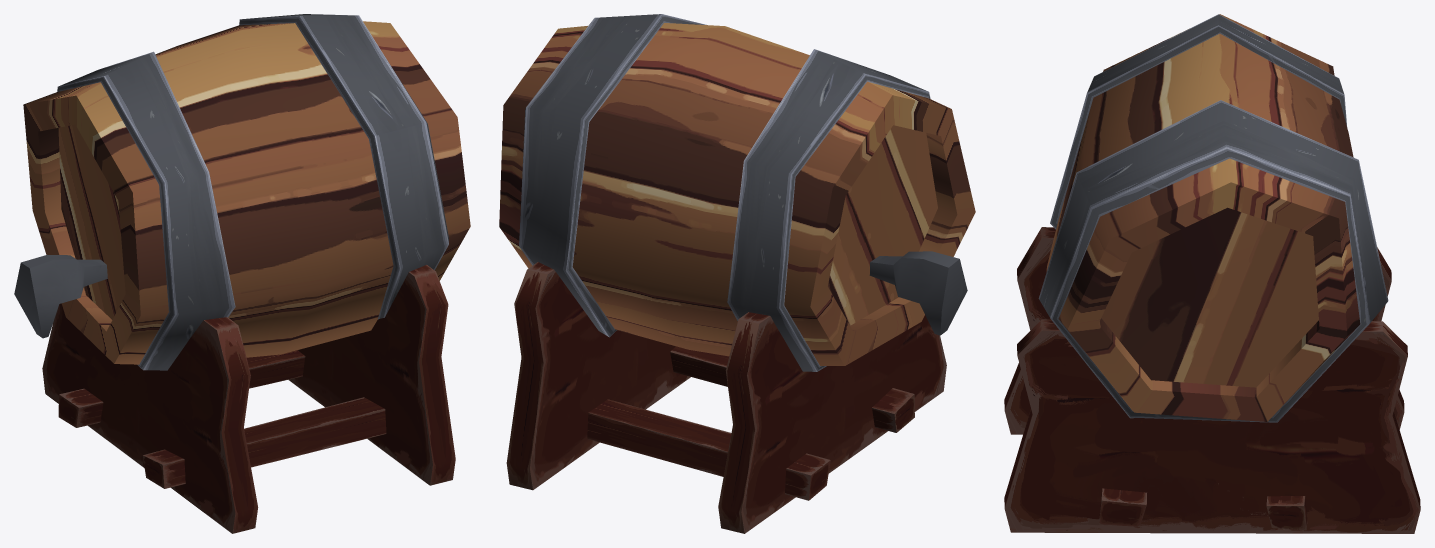
Rendered from SM_PROP_barrel_08.fbx.
3 renders of one model, left to right at view 1: azimuth 30°, elevation 25°; view 2: azimuth 150°, elevation 25°; view 3: azimuth 270°, elevation 25°, orthographic. The views are drawn at different scales.
Parts seen in each view (by area): view 1: SM_PROP_barrel_08; view 2: SM_PROP_barrel_08; view 3: SM_PROP_barrel_08.
Boxes of the visible parts, box(x1,y1,x2,y2) form: SM_PROP_barrel_08: box(14, 14, 470, 533); SM_PROP_barrel_08: box(499, 14, 975, 533); SM_PROP_barrel_08: box(1004, 14, 1420, 533).
Size of the model in its own units: 104 by 105 by 96.52.
